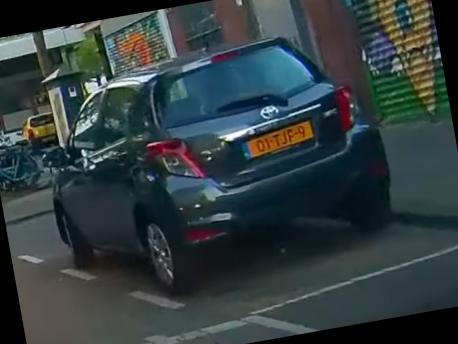license-plate: (238, 118, 317, 162)
